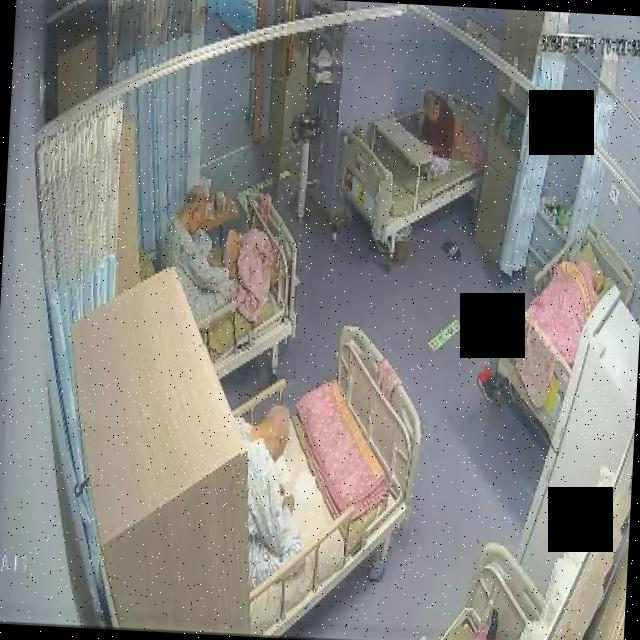bed: (237, 321, 427, 640), (488, 216, 640, 446), (166, 188, 302, 385), (336, 85, 485, 247)
patient: (158, 184, 284, 328), (232, 397, 313, 598), (413, 90, 459, 182)
sit: (162, 187, 284, 326), (230, 390, 311, 589), (412, 87, 460, 181)
